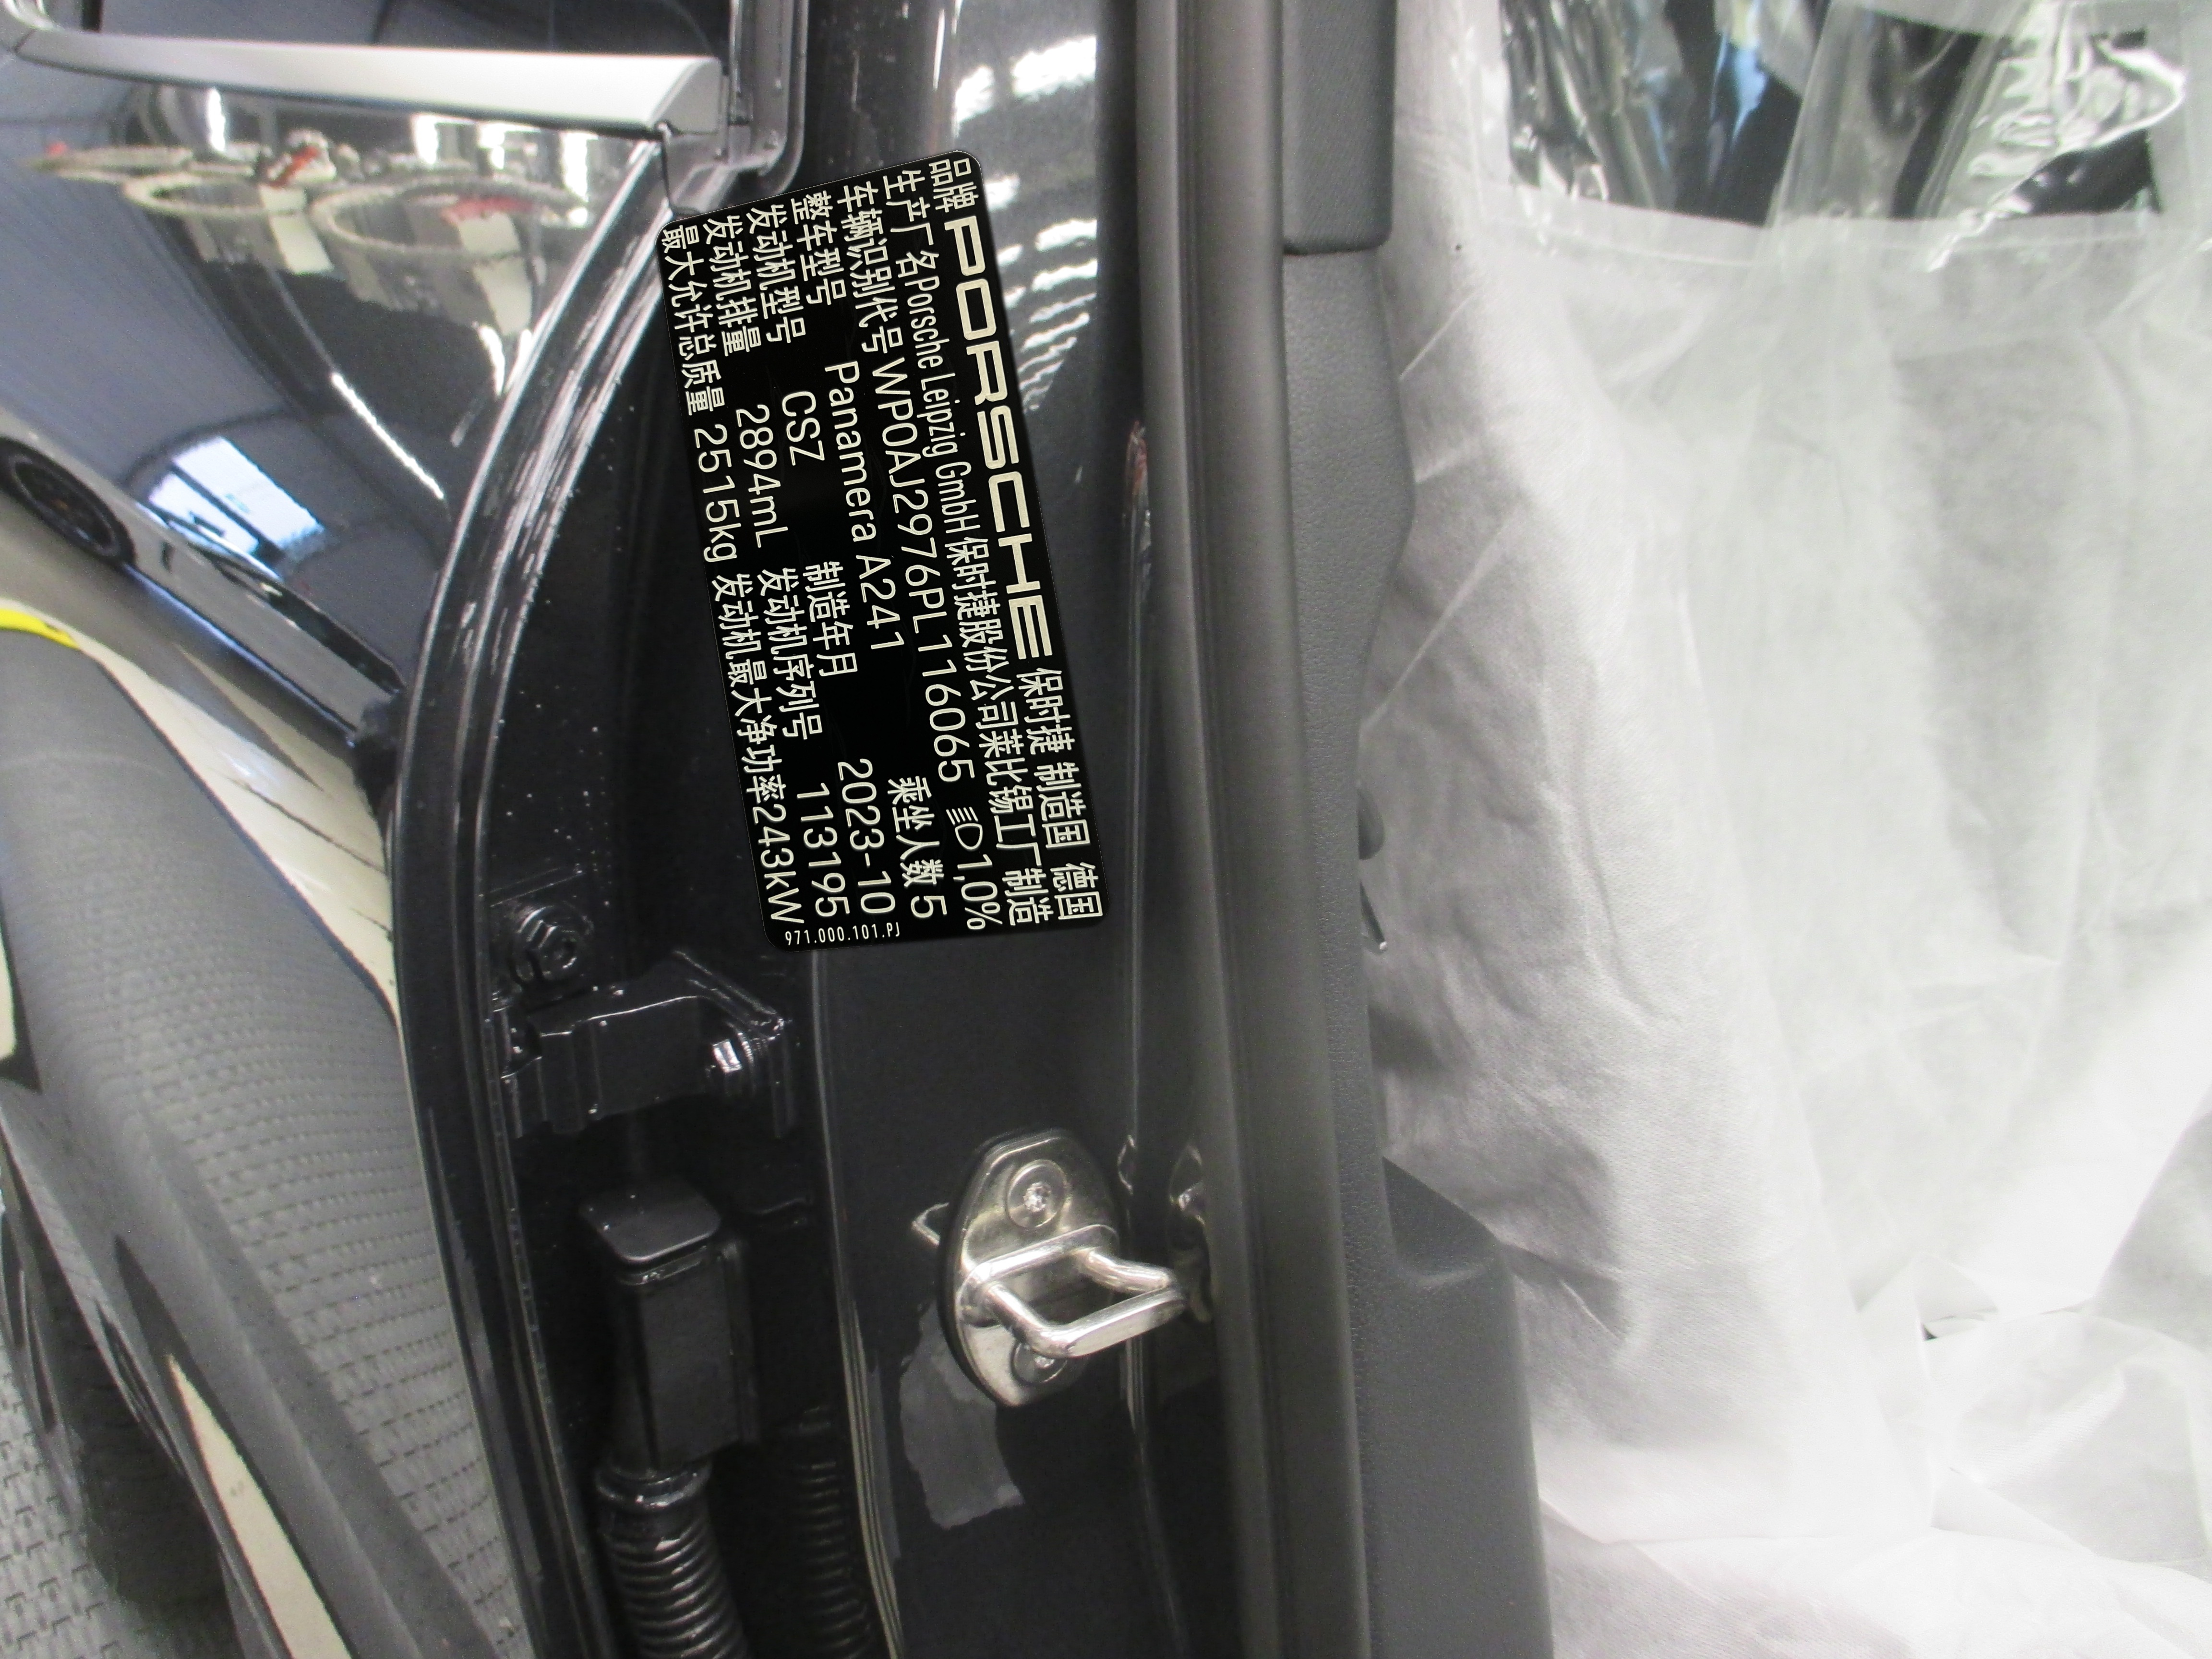Typlabel-China: (655, 150, 1109, 951)
